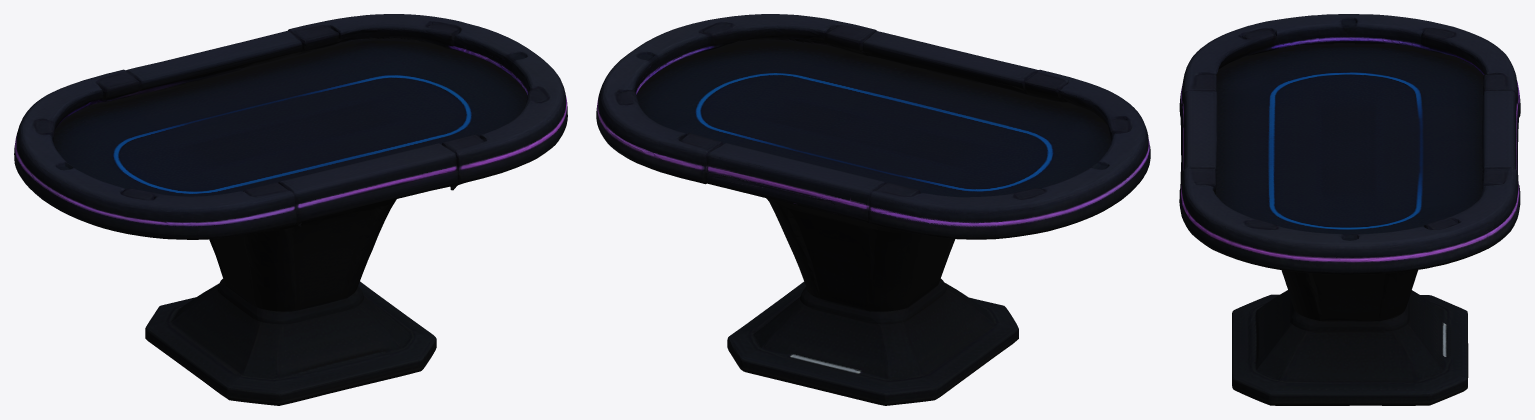
Rendered from sample (5).glb.
The picture shows the model from 3 angles, left to right: view 1: azimuth 30°, elevation 25°; view 2: azimuth 150°, elevation 25°; view 3: azimuth 270°, elevation 25°; orthographic projection. The views are drawn at different scales.
Visible parts, largest first — view 1: world; view 2: world; view 3: world.
Boxes of the visible parts, x1,y1,x2,y2 form: world: [14, 14, 567, 405]; world: [596, 14, 1150, 405]; world: [1179, 14, 1520, 405].
Bounding box in the file's own units: 1 × 0.4516 × 0.6092.
Materials: 1 (1 with a texture image).
